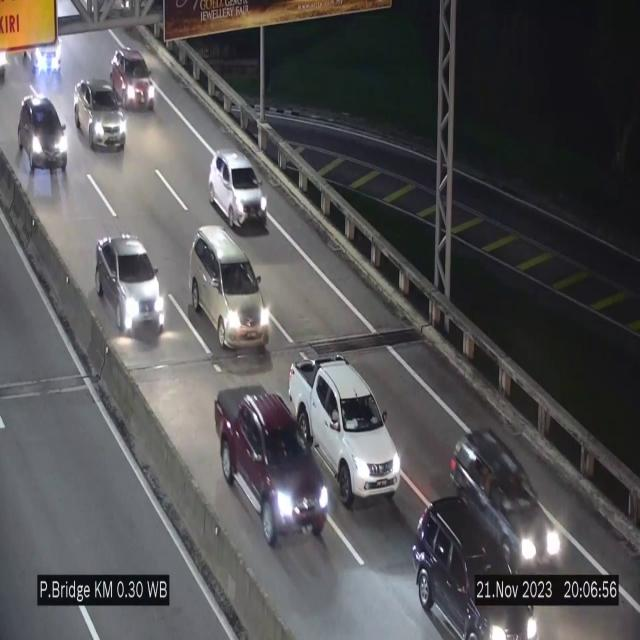Car: (214, 379, 328, 550), (413, 494, 538, 640), (290, 356, 401, 505), (451, 427, 560, 570), (189, 226, 269, 352), (95, 234, 165, 335), (208, 151, 268, 229), (18, 91, 70, 175), (74, 79, 126, 149), (110, 48, 156, 112)
